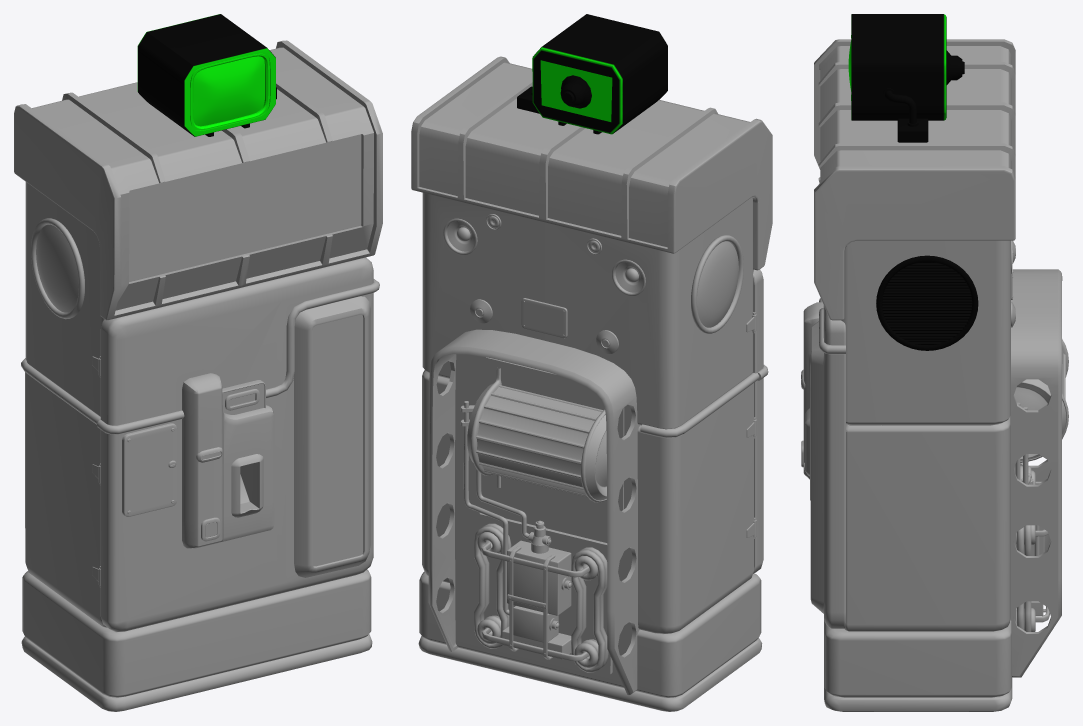
The model's file is Nuka_Distributor.fbx.
3 views of the same model, side by side, from view 1: azimuth 30°, elevation 25°; view 2: azimuth 150°, elevation 25°; view 3: azimuth 270°, elevation 25° (orthographic). The views are drawn at different scales.
Visible parts, largest first — view 1: Porta_LO, Insegna_NukaDisco_LO, Cassa_LO, Pc_Areatore_LO; view 2: Cassa_LO, Insegna_NukaDisco_LO, Motore_LO, Pc_Areatore_LO, Porta_LO; view 3: Cassa_LO, Insegna_NukaDisco_LO, Pc_Areatore_LO, Porta_LO, Motore_LO.
Part boxes in pixels (box(x1,y1,x2,y2)): Porta_LO: box(92, 257, 379, 632); Insegna_NukaDisco_LO: box(14, 40, 382, 320); Cassa_LO: box(21, 182, 372, 711); Pc_Areatore_LO: box(137, 14, 276, 136); Cassa_LO: box(418, 192, 762, 711); Insegna_NukaDisco_LO: box(411, 56, 772, 694); Motore_LO: box(460, 367, 608, 672); Pc_Areatore_LO: box(517, 14, 667, 134); Porta_LO: box(746, 269, 768, 573); Cassa_LO: box(824, 240, 1016, 711); Insegna_NukaDisco_LO: box(814, 39, 1062, 677); Pc_Areatore_LO: box(848, 14, 978, 350); Porta_LO: box(801, 298, 882, 628); Motore_LO: box(1014, 339, 1068, 631).
Size of the model in its own units: 8.75 by 18.65 by 7.36.
